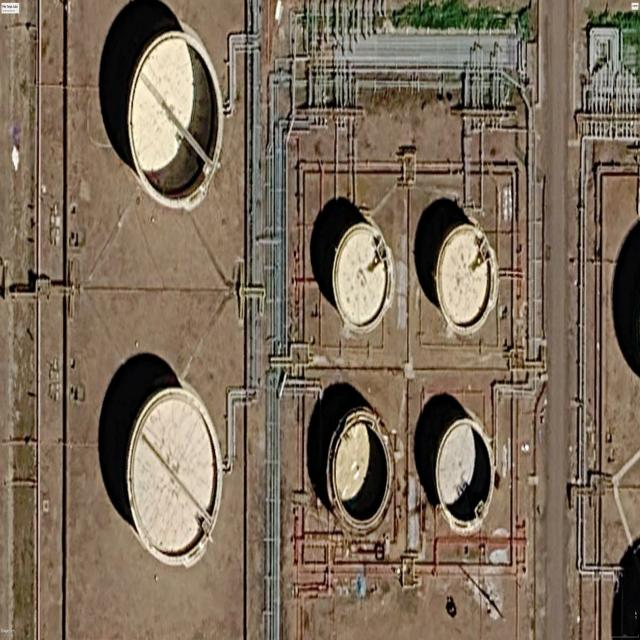Oil Rafinery: (126, 30, 223, 210), (125, 387, 221, 566), (326, 407, 393, 535), (434, 414, 495, 535), (435, 224, 497, 335), (332, 223, 393, 331)
